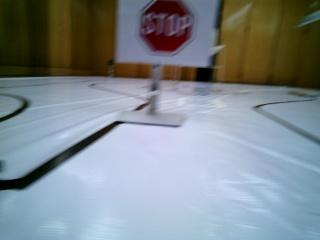stop: (124, 2, 202, 61)
